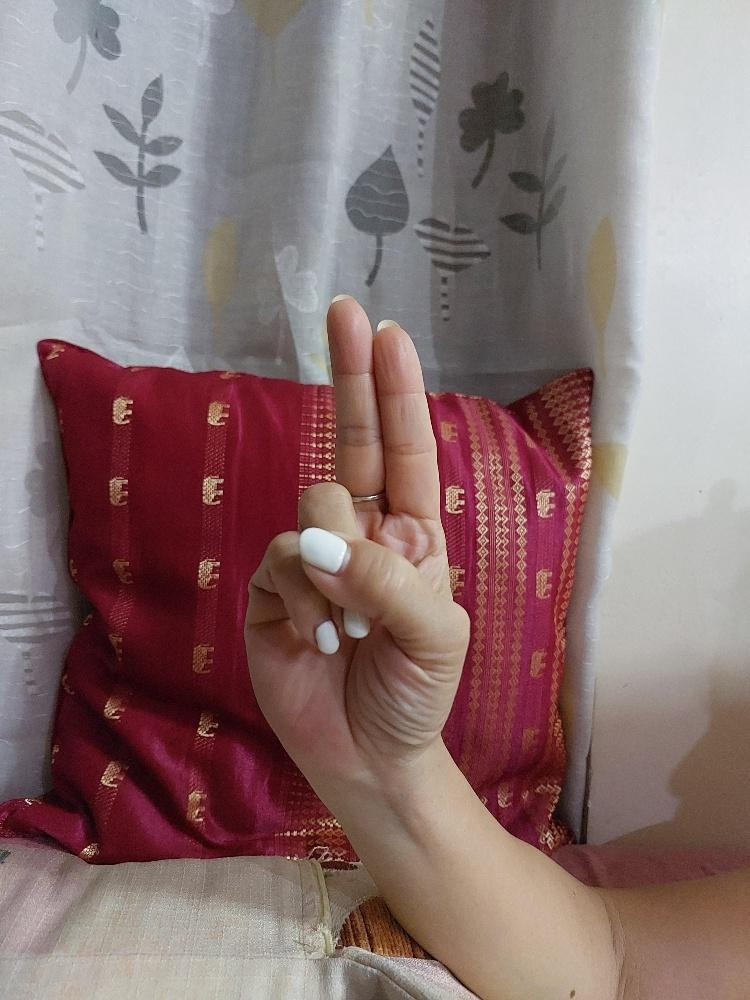u: (239, 288, 474, 771)
